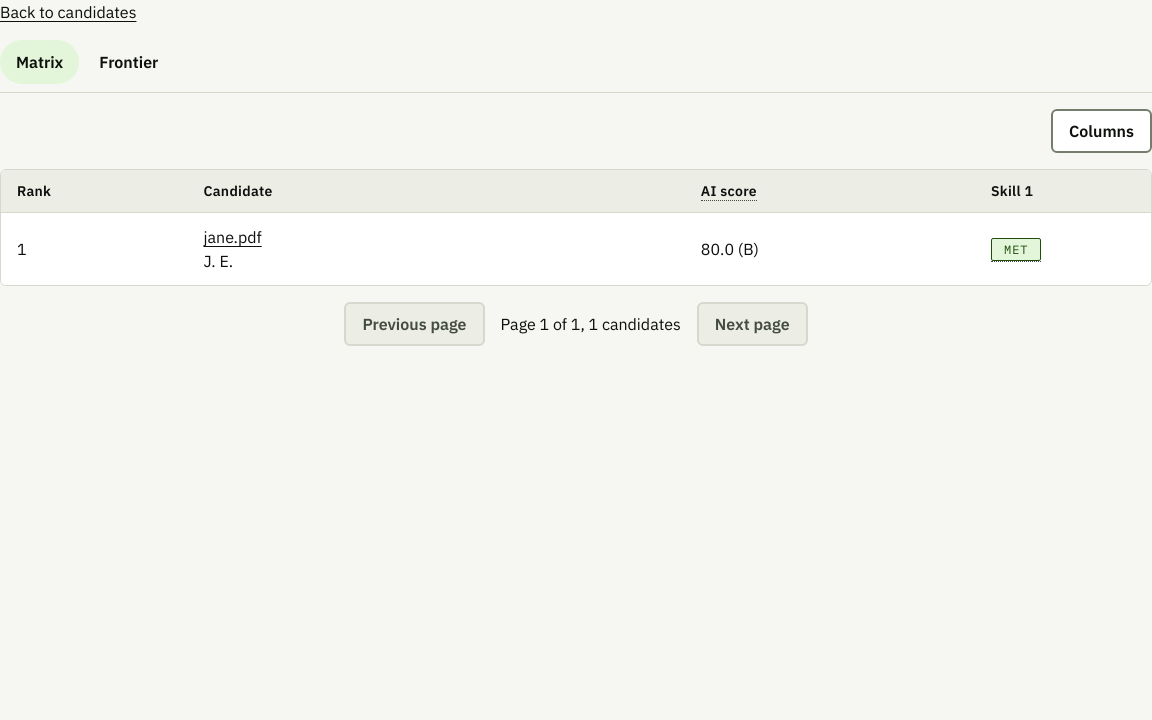
Scenario: matrix columns › works with a single requirement, which cannot be switched off
Expected: the element named "Candidates against requirements" is shown, [0,169,1151,286]
Click the button "Columns".
click(1102, 131)  # box [1051,109,1151,153]
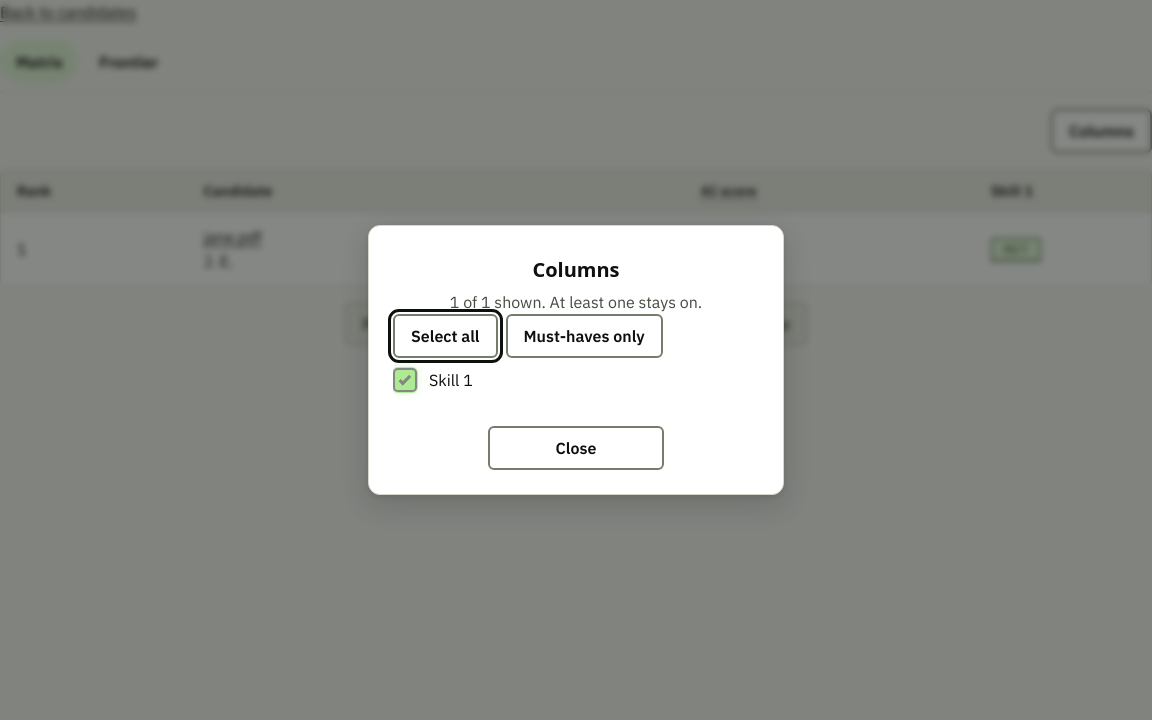
Expected: the checkbox labelled "Skill 1" is disabled, [393,368,417,392]
